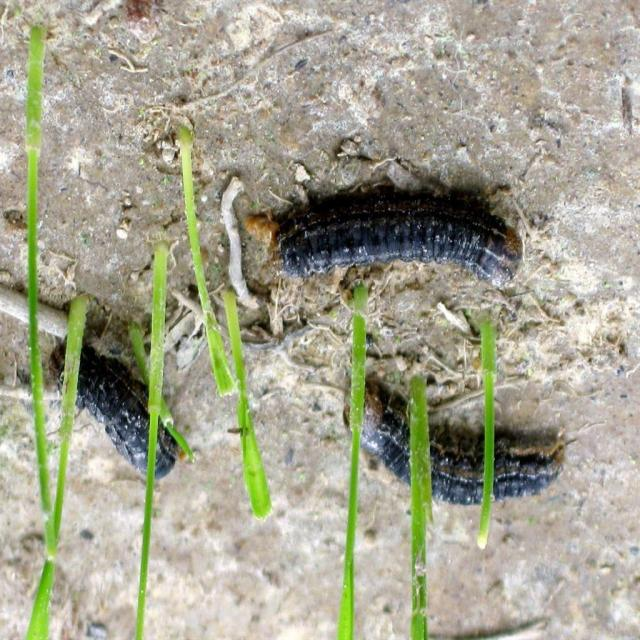army worm: (339, 373, 561, 511), (266, 203, 523, 287), (44, 333, 181, 486)
